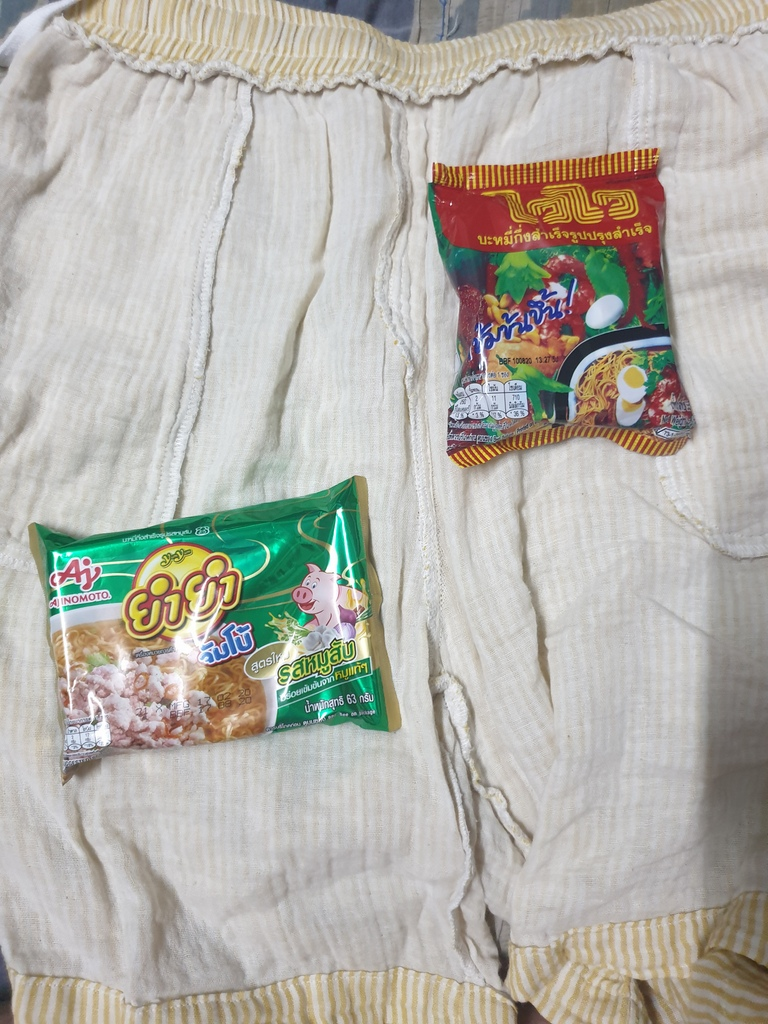waiwai: (426, 154, 706, 458)
yumyum: (22, 509, 411, 748)
